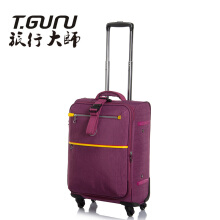luggage: (65, 22, 153, 215)
